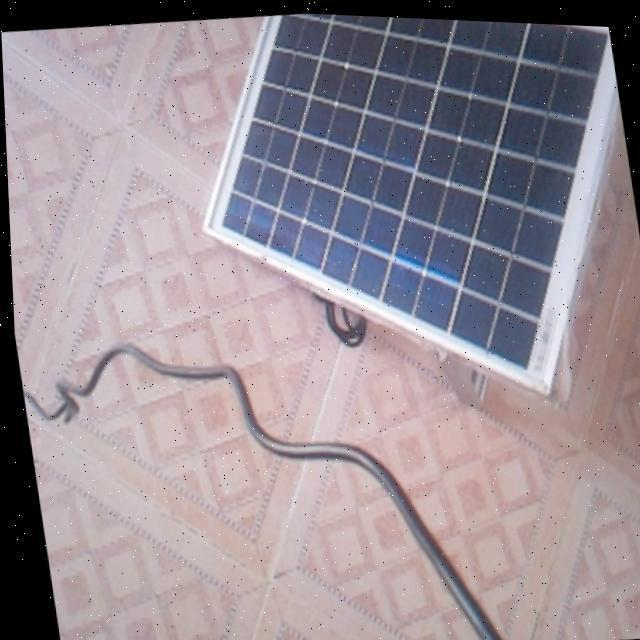Normal Solar Panel: (173, 6, 640, 427)
